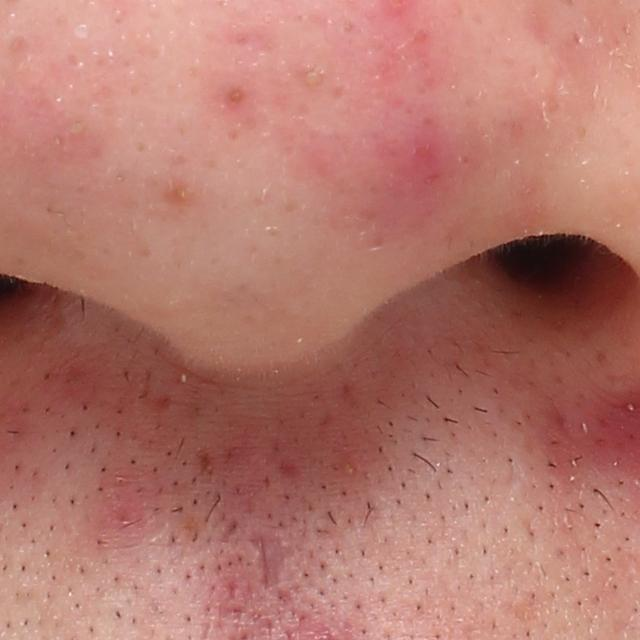atrophic_scar: (247, 533, 288, 587), (277, 460, 303, 482), (221, 517, 240, 544), (225, 576, 239, 602)
comedo: (298, 61, 328, 93)
